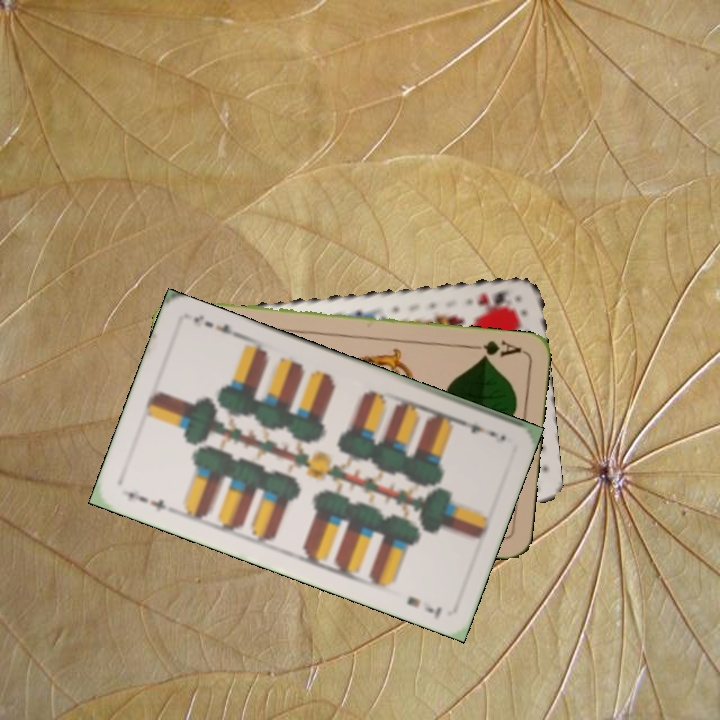E7: (123, 486, 169, 515), (454, 414, 500, 440)
GA: (466, 336, 524, 362)
HK: (473, 286, 511, 312)
